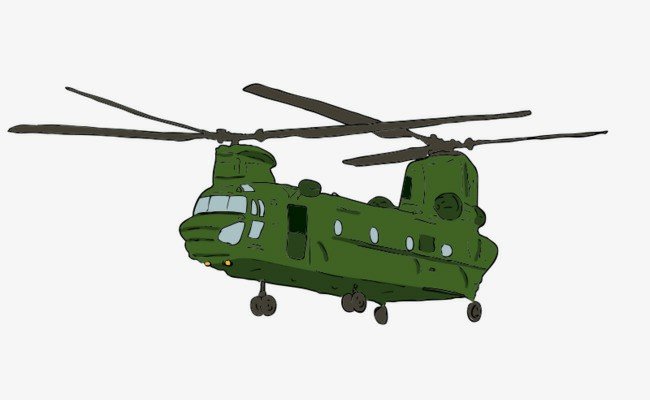chinook: (54, 88, 606, 332)
